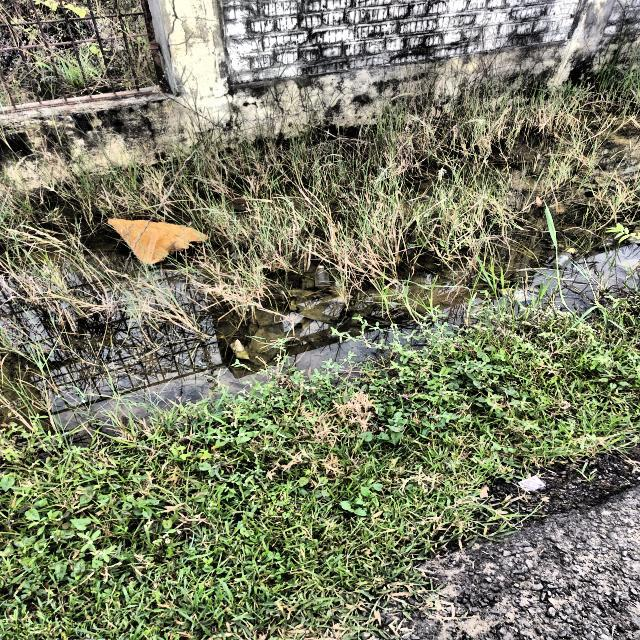anorganik: (108, 219, 212, 266), (549, 247, 577, 269), (519, 475, 546, 491), (315, 264, 331, 290)
